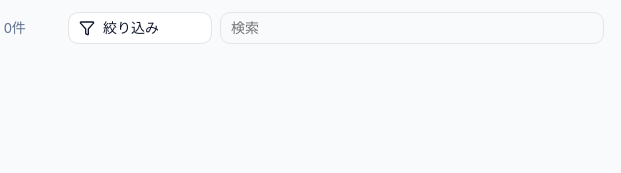
Test: CandidatePartsFilters › 表示モードを使わない画面では選択肢を出さない
The image size is (621, 173).
Click the button "絞り込み" at (140, 28), box [68,12,212,44]
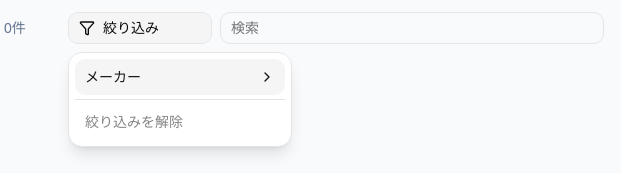
Expected: the menu item "メーカー" is shown, [75,59,285,95]
